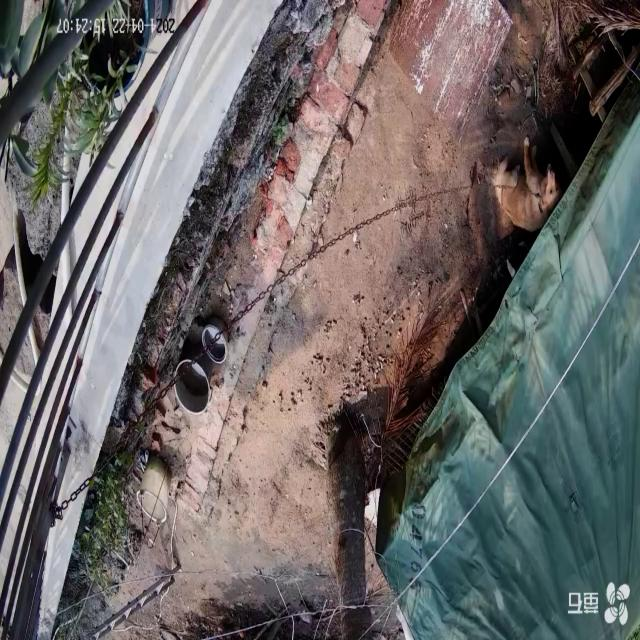dog: (493, 137, 563, 235)
